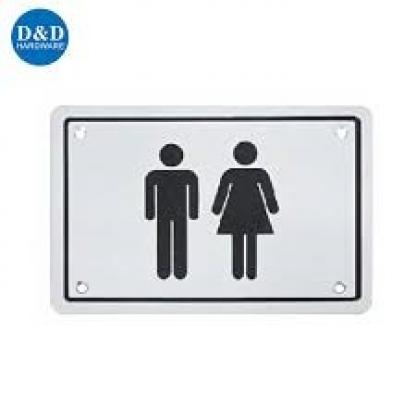toilet: (140, 134, 284, 285)
